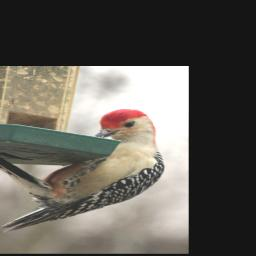Woodpecker: (0, 108, 164, 236)
